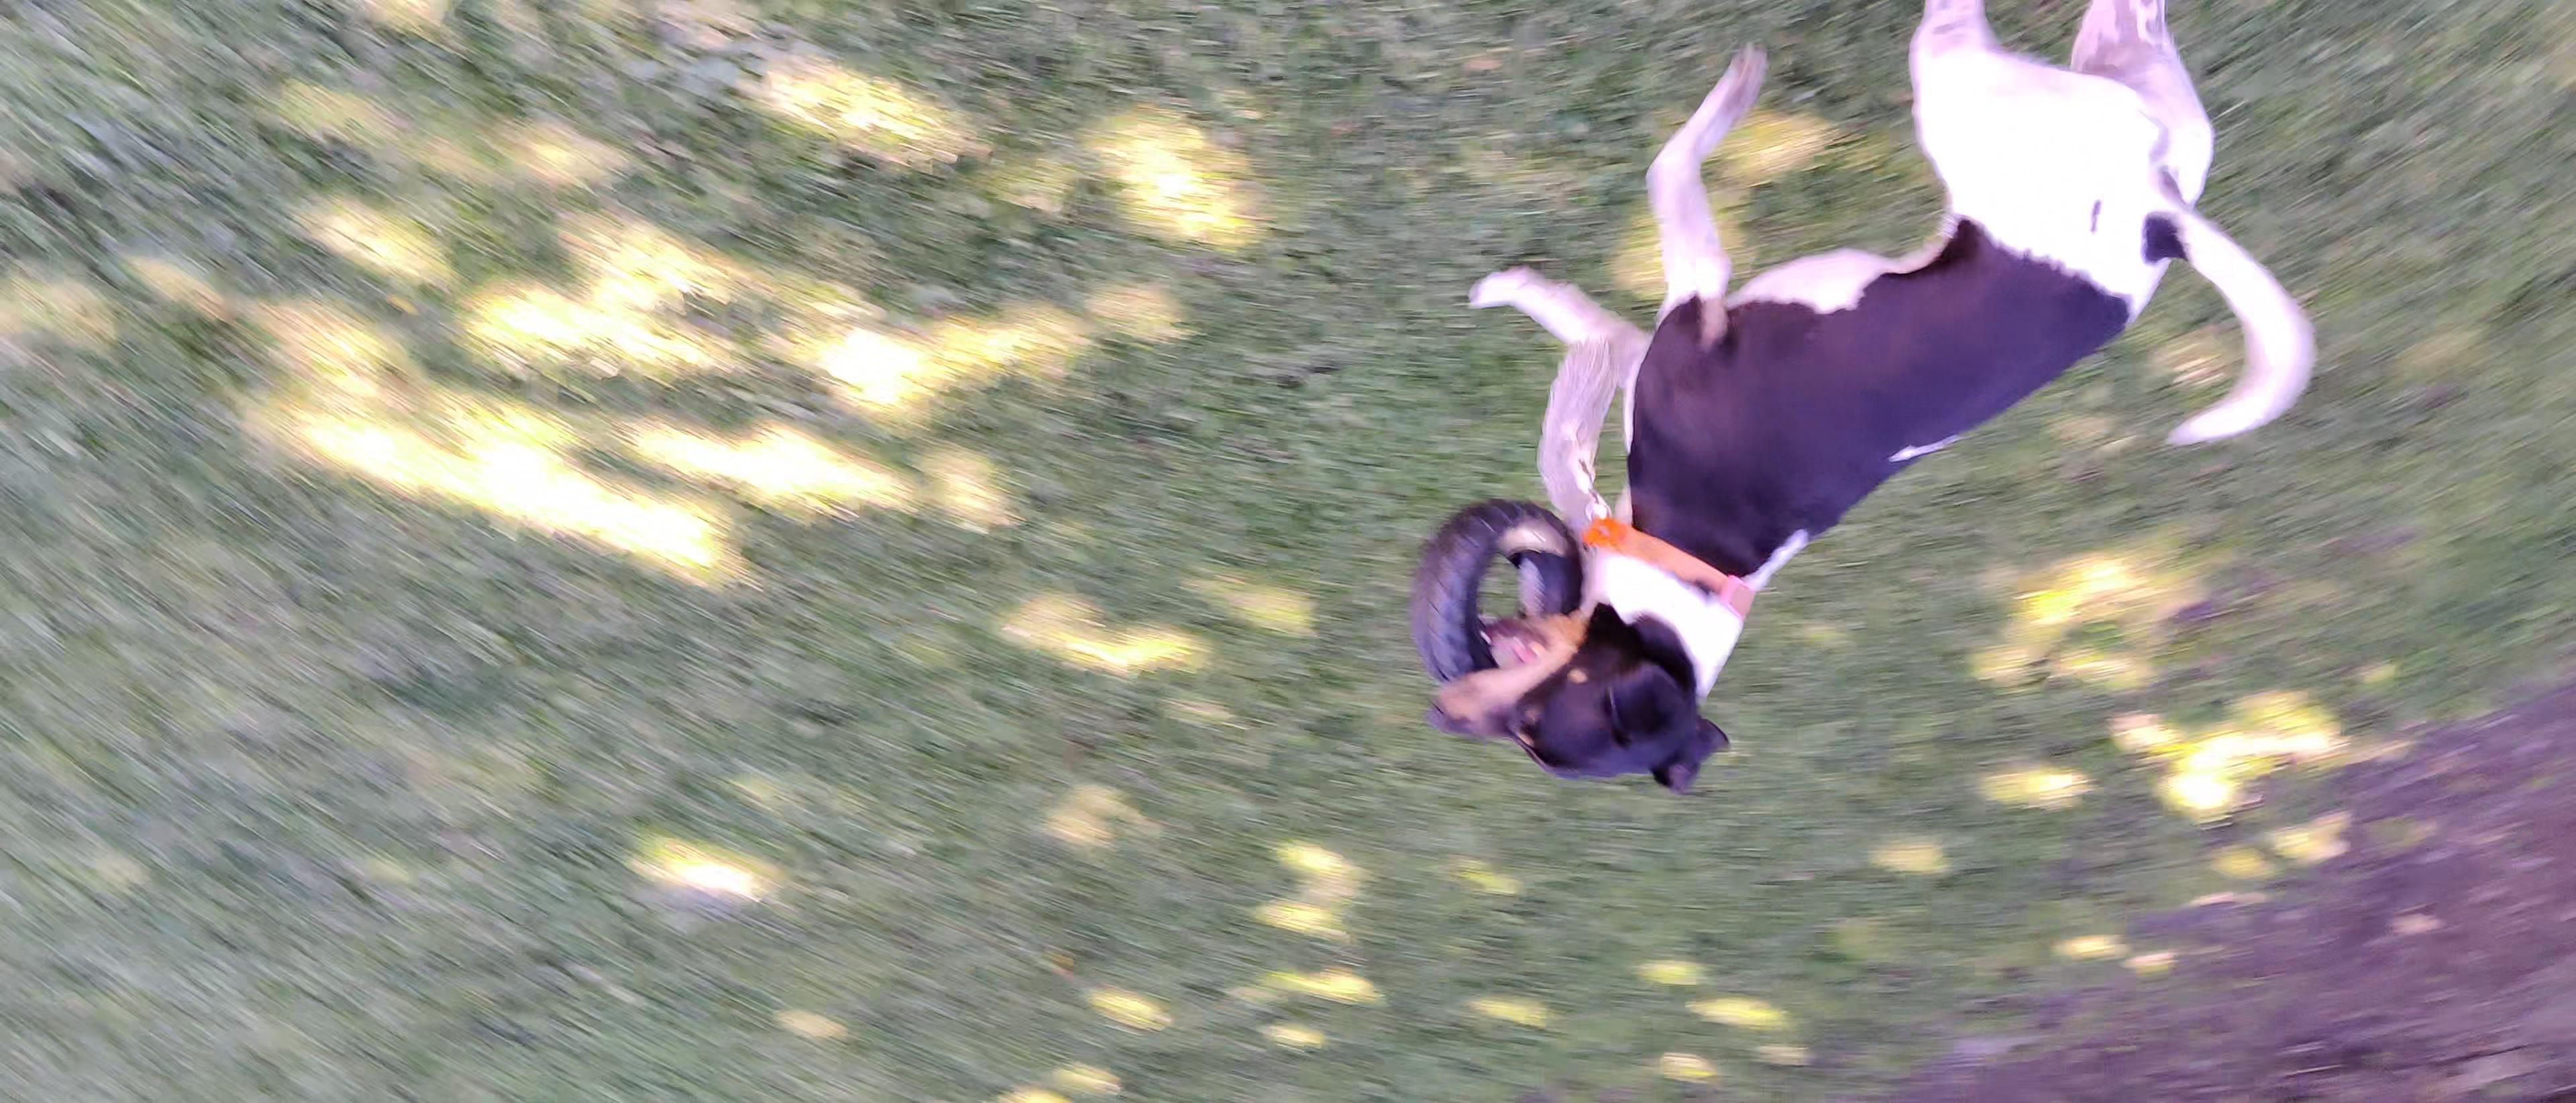Dog: (1388, 0, 2323, 809)
